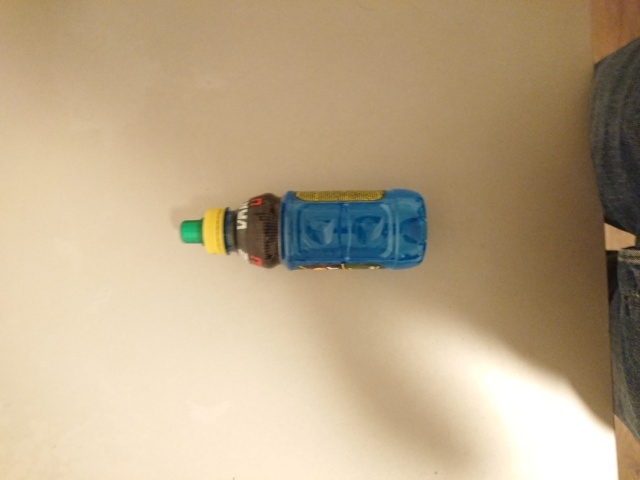Vindi Iso Sport Forest Strawberries 500mL: (178, 185, 429, 272)
